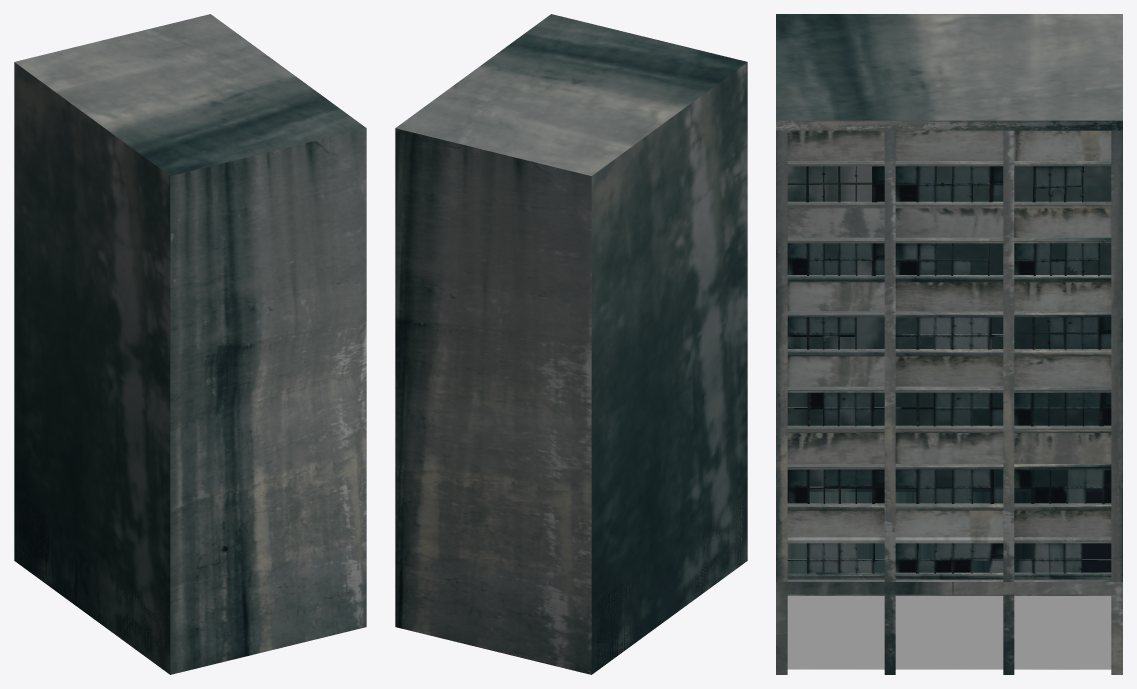
Rendered from abandoned building.fbx.
3 renders of one model, left to right at view 1: azimuth 30°, elevation 25°; view 2: azimuth 150°, elevation 25°; view 3: azimuth 270°, elevation 25°, orthographic. The views are drawn at different scales.
Parts seen in each view (by area): view 1: Cube; view 2: Cube; view 3: Cube.
Boxes of the visible parts, box(x1,y1,x2,y2) form: Cube: box(14, 14, 366, 674); Cube: box(395, 14, 747, 674); Cube: box(776, 14, 1122, 674).
Size of the model in its own units: 1201 by 2913 by 1652.
Materials: 2 (1 with a texture image).
